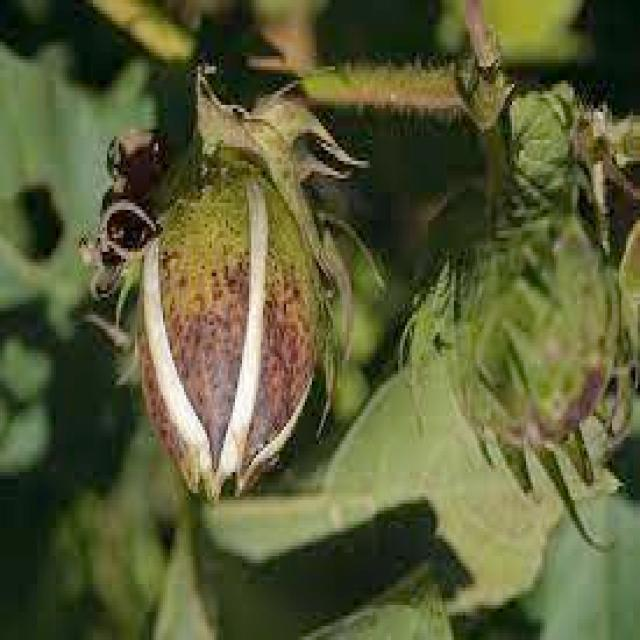Early Boll: (442, 147, 624, 508)
Split Cotton Boll: (145, 162, 320, 499)
